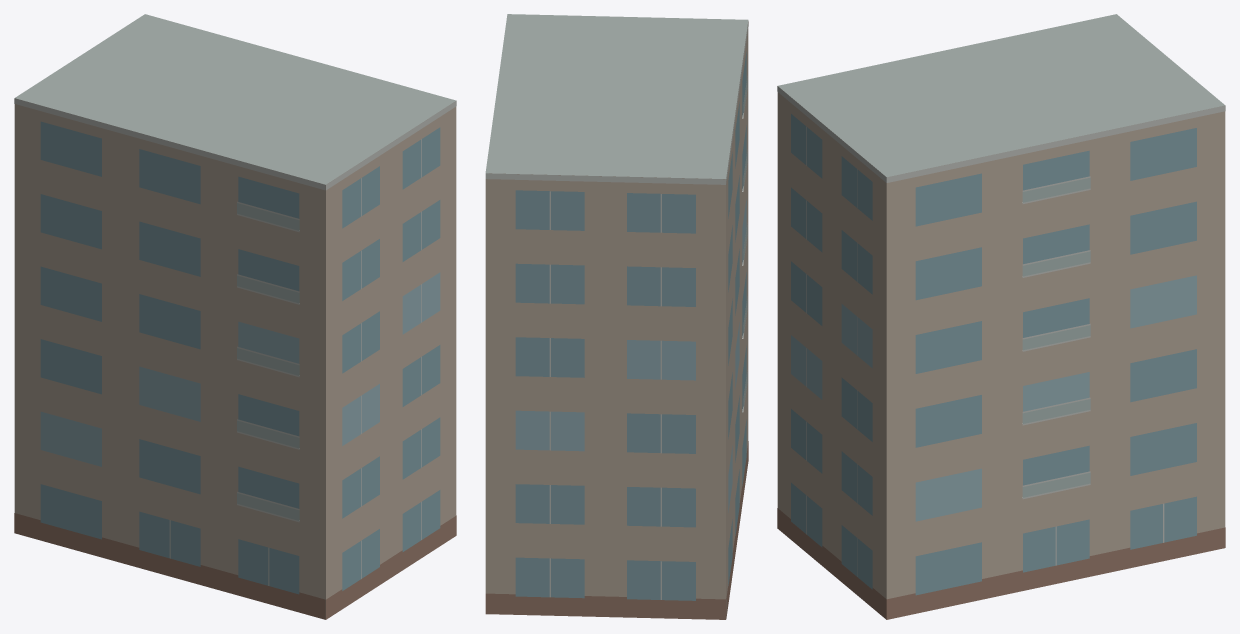
The model's file is survey-upis-32626786.glb.
3 renders of one model, left to right at view 1: azimuth 30°, elevation 25°; view 2: azimuth 150°, elevation 25°; view 3: azimuth 270°, elevation 25°, orthographic.
Visible parts, largest first — view 1: survey-upis-32626786.tmp; view 2: survey-upis-32626786.tmp; view 3: survey-upis-32626786.tmp.
Boxes of the visible parts, left/top/right/bottom form: survey-upis-32626786.tmp: left=14, top=14, right=456, bottom=619; survey-upis-32626786.tmp: left=485, top=14, right=748, bottom=619; survey-upis-32626786.tmp: left=777, top=14, right=1225, bottom=619.
Size of the model in its own units: 14.65 by 18.5 by 16.98.
